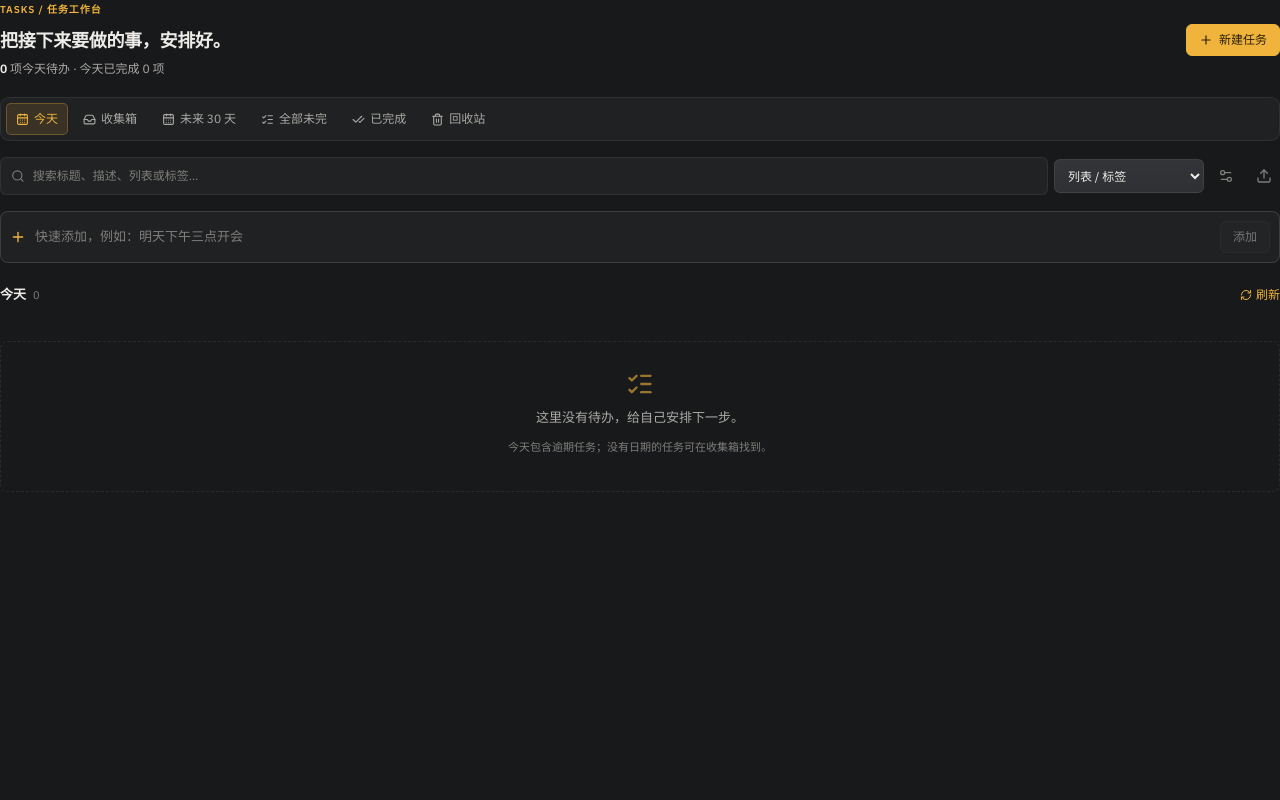
Scenario: 管理列表与标签，删除分类需确认且不删除任务
Expected: the button "新建任务" is enabled, 1186,24 -> 1279,56
Click the button named "管理列表和标签" at (1226, 176), box 1210,161 -> 1242,191
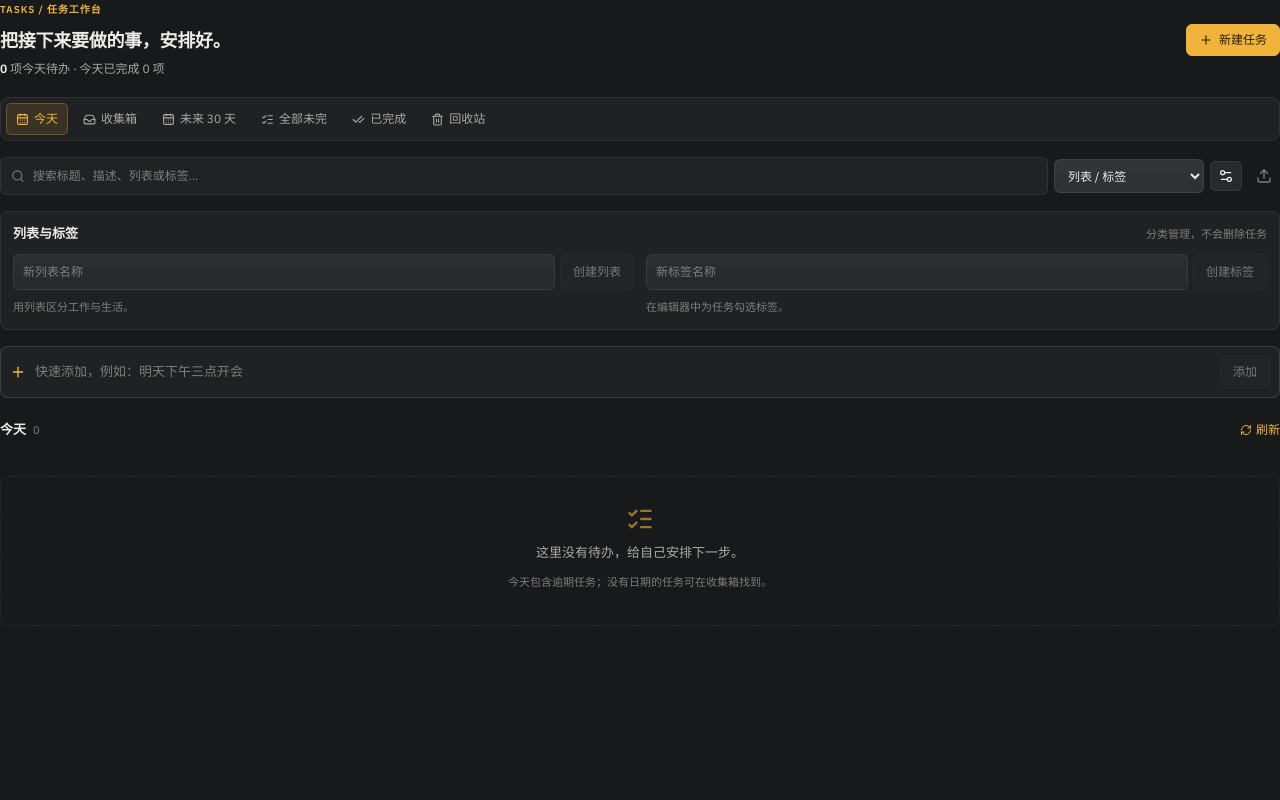
Type "工作" into the field labelled "新列表名称" at (284, 272), box 13,254 -> 555,290
Click the button "创建列表" at (597, 272), box 560,254 -> 634,290
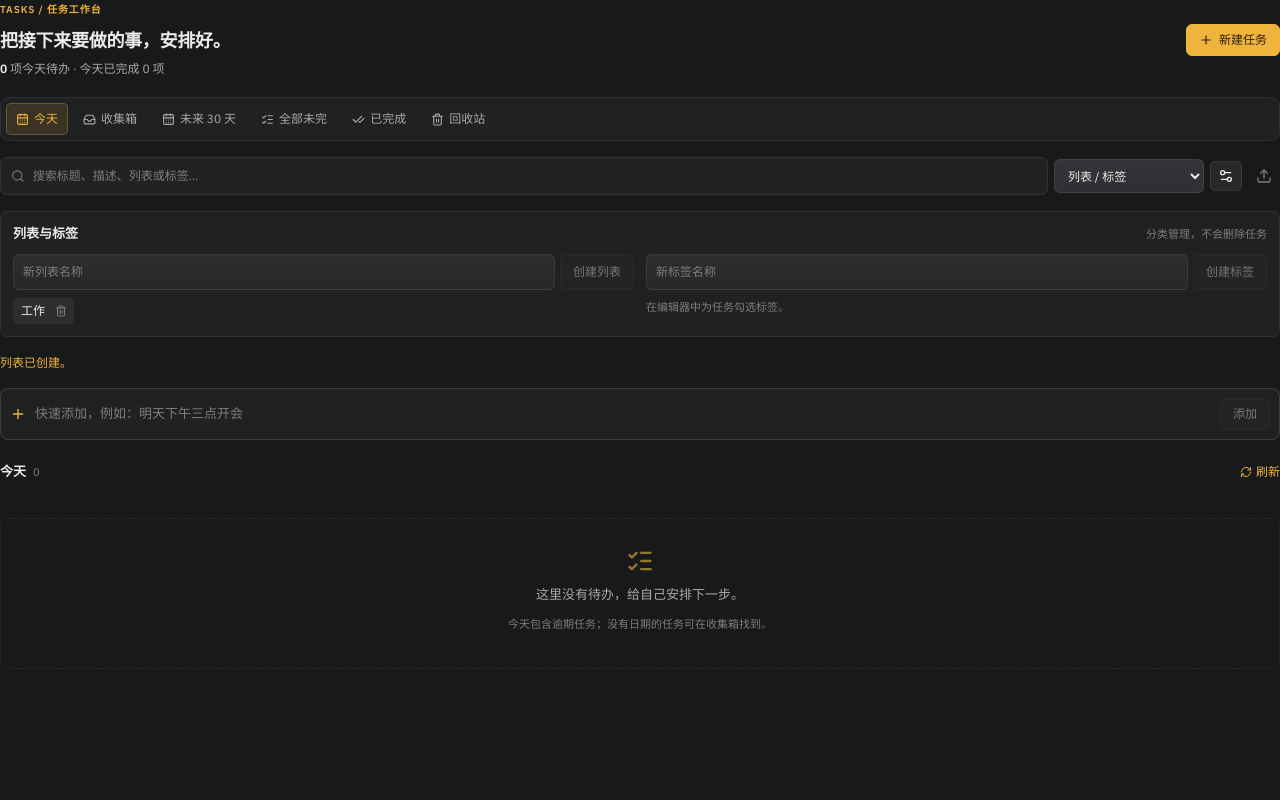
Expected: the text "列表已创建。" is shown, 0,355 -> 72,370
Type "发布" into the field labelled "新标签名称" at (917, 272), box 646,254 -> 1188,290
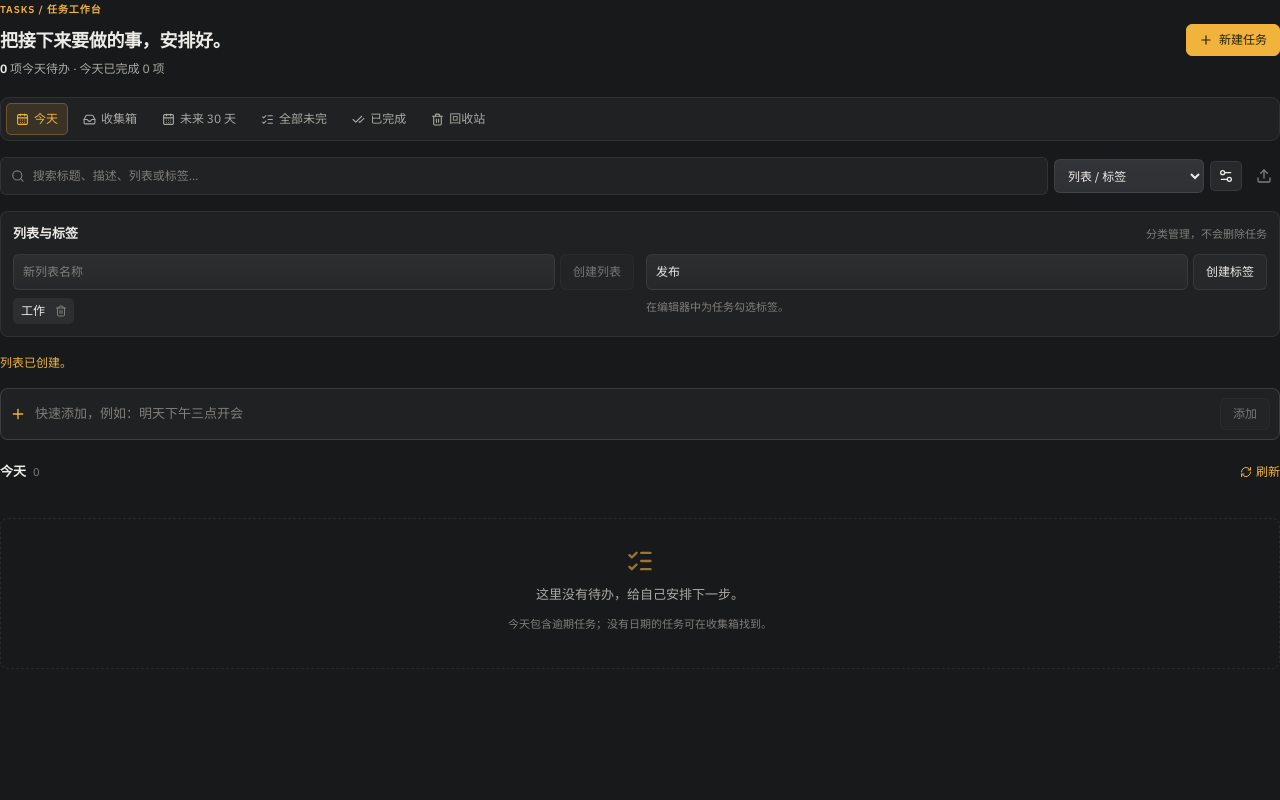
Click the button "创建标签" at (1230, 272), box 1193,254 -> 1267,290
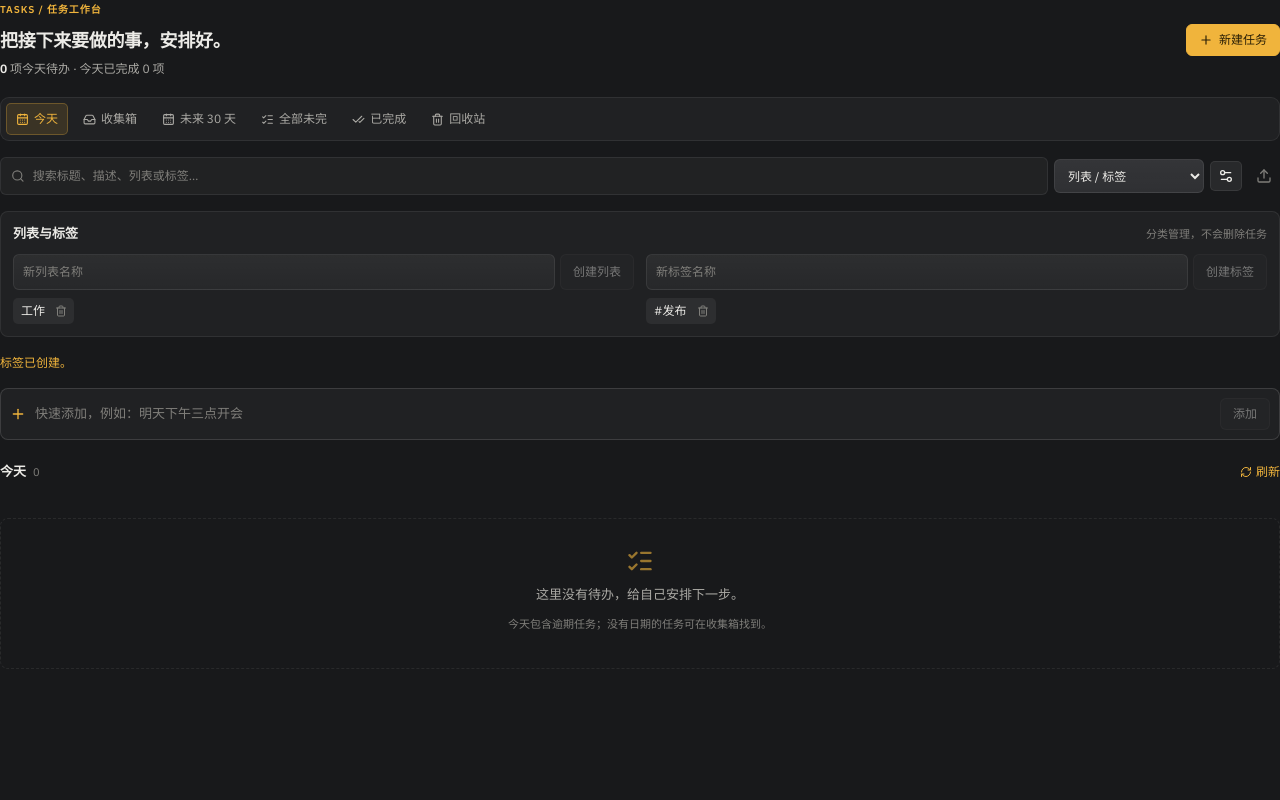
Expected: the text "标签已创建。" is shown, 0,355 -> 72,370
Click the button named "删除列表 工作" at (61, 311), box 48,298 -> 74,324
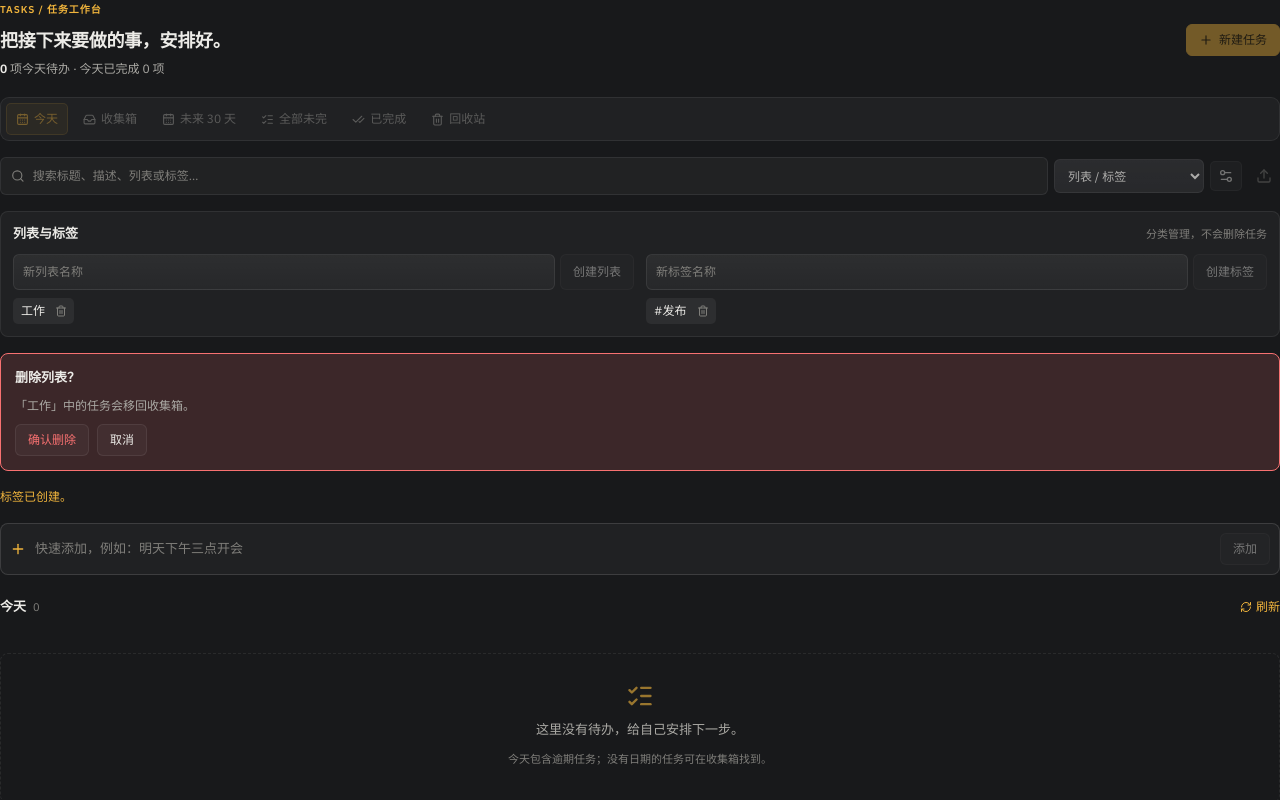
Expected: the text "「工作」中的任务会移回收集箱。" is shown, 15,398 -> 195,413
Click the button "确认删除" at (52, 440), box 15,424 -> 89,456
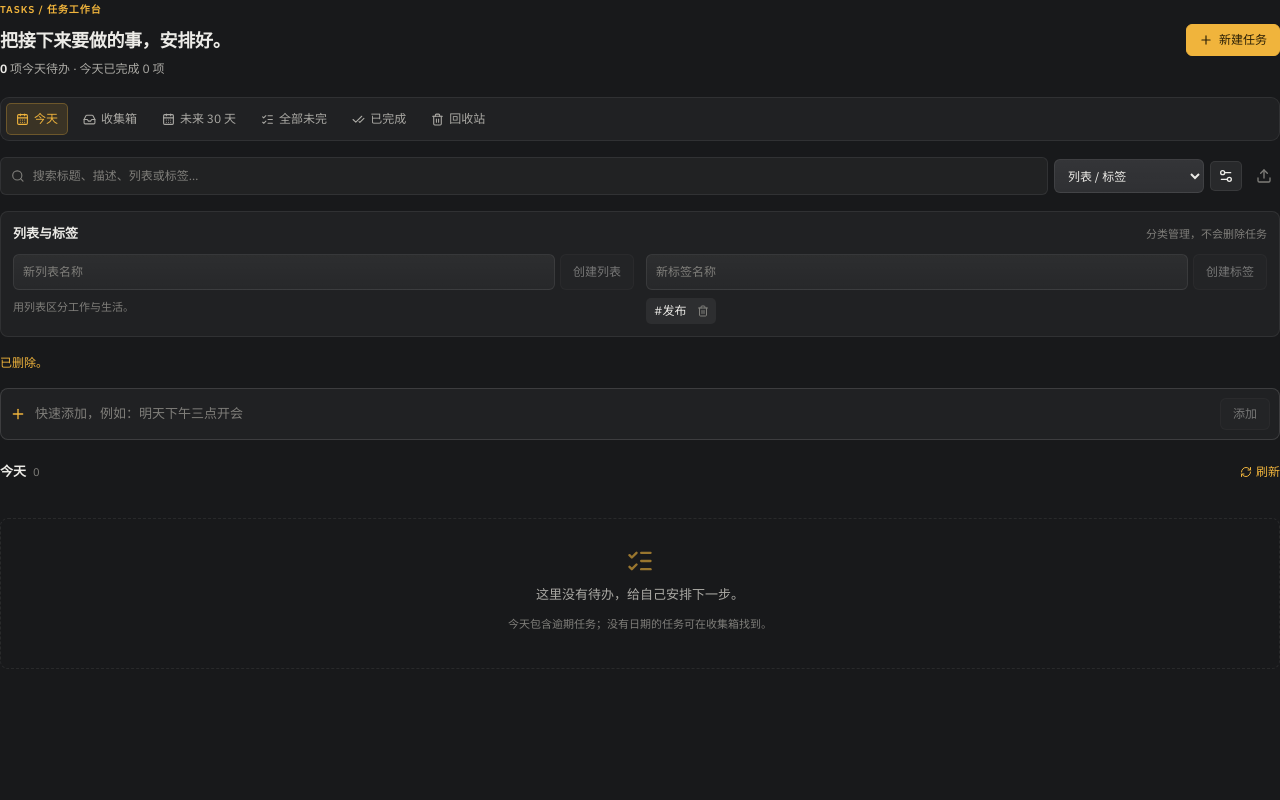
Expected: the text "已删除。" is shown, 0,355 -> 48,370
